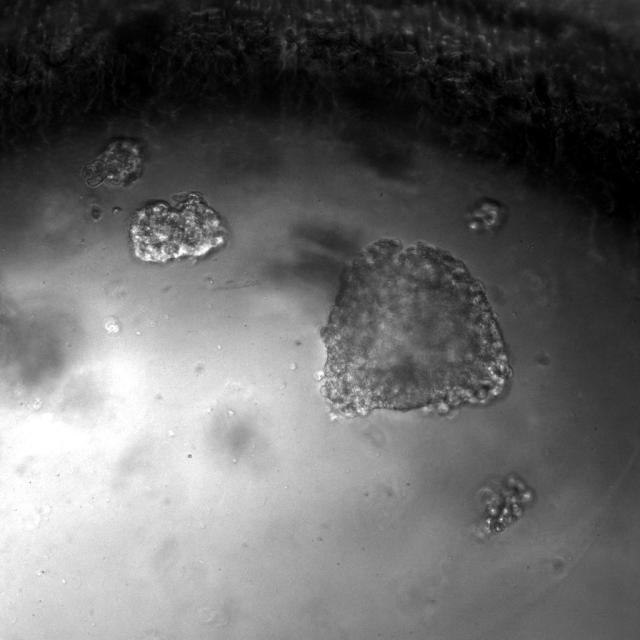organoid: (321, 239, 511, 415), (129, 192, 226, 263), (465, 475, 534, 540), (83, 139, 143, 187), (466, 197, 508, 232), (91, 204, 101, 221), (112, 206, 122, 215)
